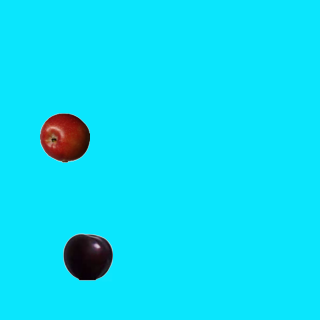Apple Braeburn: (39, 112, 89, 162)
Cherry Wax Black: (62, 231, 112, 281)
